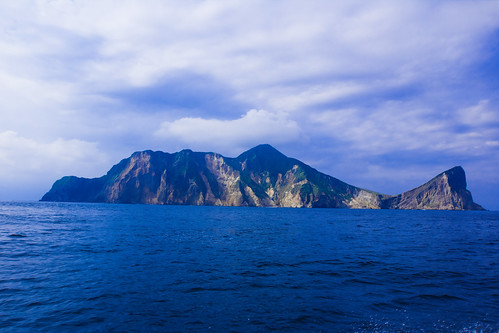turtleIsland: (46, 141, 484, 216)
